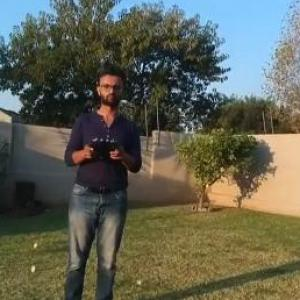follow: (48, 64, 145, 299)
